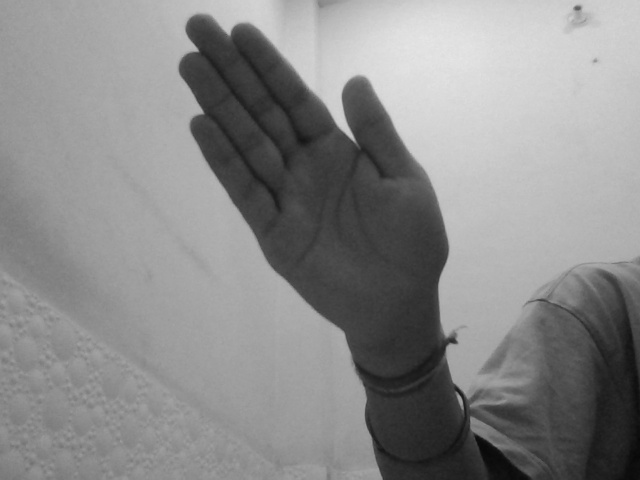Hello: (175, 10, 450, 347)
